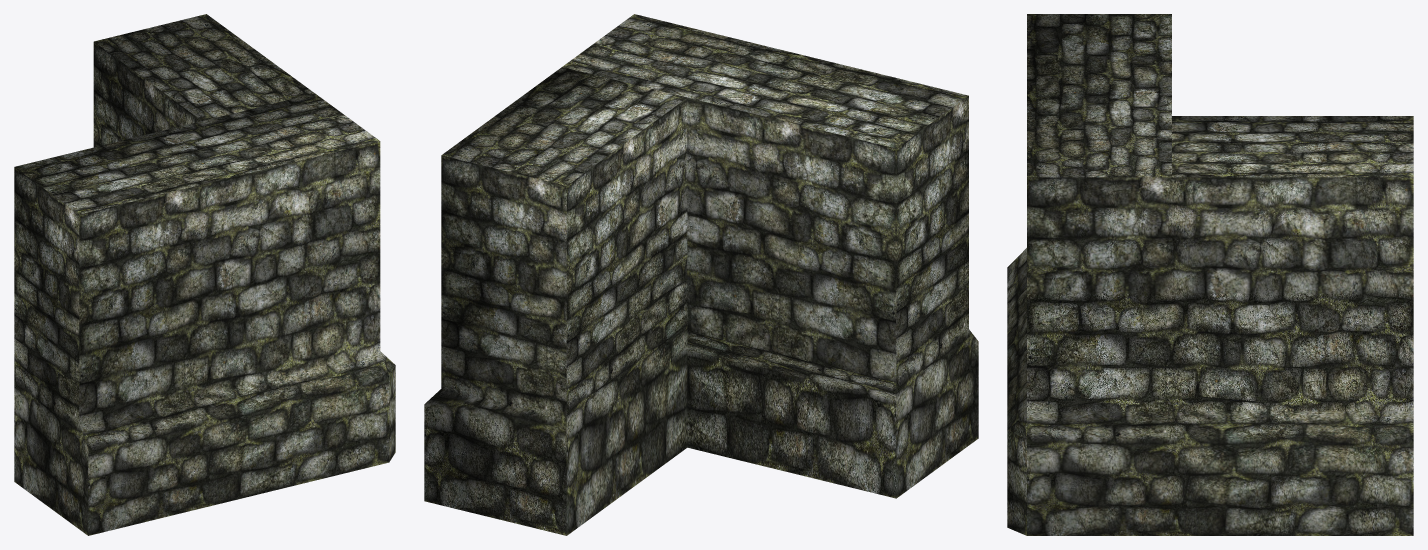
File: wall_corner_out.obj
The picture shows the model from 3 angles, left to right: view 1: azimuth 30°, elevation 25°; view 2: azimuth 150°, elevation 25°; view 3: azimuth 270°, elevation 25°; orthographic projection. The views are drawn at different scales.
Parts seen in each view (by area): view 1: Cube_005; view 2: Cube_005; view 3: Cube_005.
Part boxes in pixels (x1,y1,x2,y2): Cube_005: (14, 14, 395, 535); Cube_005: (424, 14, 978, 535); Cube_005: (1007, 14, 1413, 535).
Size of the model in its own units: 5380 by 5120 by 5381.
Materials: 1 (1 with a texture image).
